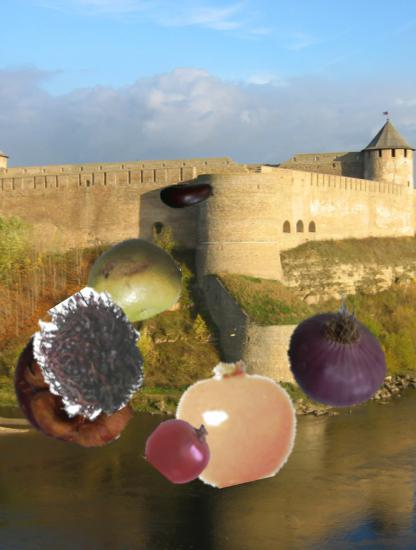Eggplant: (159, 167, 217, 225)
Mangostan: (8, 320, 142, 454)
Onion: (273, 285, 398, 410)
Physalis: (174, 358, 300, 484)
Pomelo: (86, 232, 183, 329)
Rambutan: (28, 296, 151, 419)
Redcurrant: (148, 416, 214, 482)
